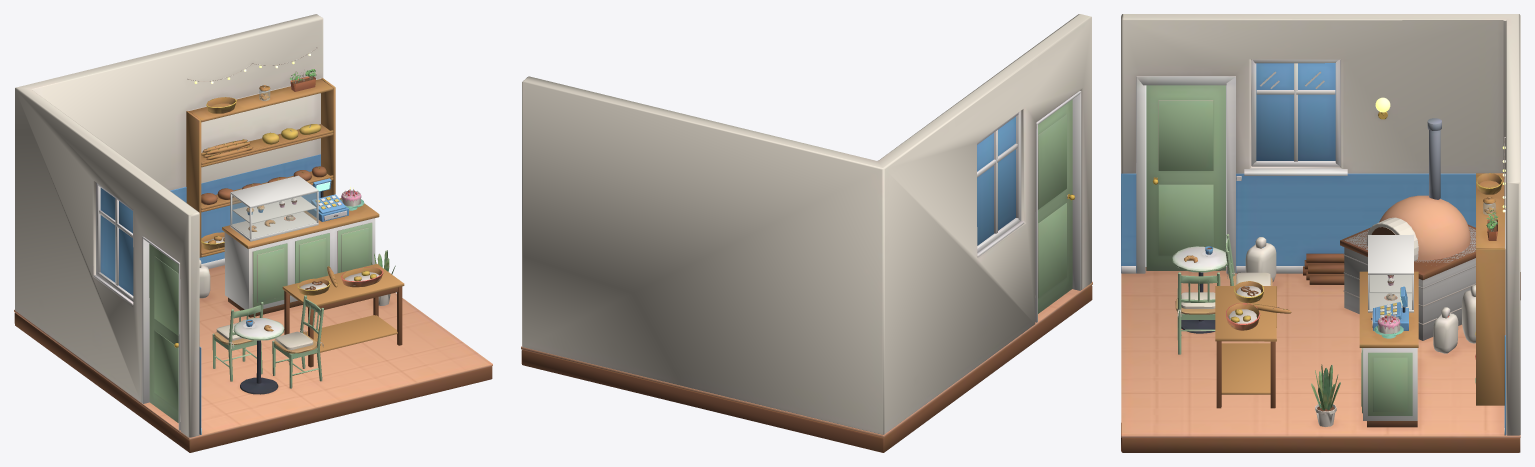
File: bakery-interior.glb
3 views of the same model, side by side, from view 1: azimuth 30°, elevation 25°; view 2: azimuth 150°, elevation 25°; view 3: azimuth 270°, elevation 25° (orthographic). The views are drawn at different scales.
Parts seen in each view (by area): view 1: bakery-interior_body, bakery-interior_display_table, bakery-interior_pastry_display, bakery-interior_pastry_display_glass; view 2: bakery-interior_body; view 3: bakery-interior_body, bakery-interior_display_table, bakery-interior_pastry_display, bakery-interior_pastry_display_glass.
Boxes of the visible parts, x1,y1,x2,y2 form: bakery-interior_body: (14, 14, 492, 452); bakery-interior_display_table: (282, 264, 404, 367); bakery-interior_pastry_display: (230, 175, 318, 241); bakery-interior_pastry_display_glass: (231, 192, 316, 238); bakery-interior_body: (521, 14, 1092, 452); bakery-interior_body: (1121, 14, 1520, 452); bakery-interior_display_table: (1215, 286, 1276, 408); bakery-interior_pastry_display: (1368, 235, 1413, 312); bakery-interior_pastry_display_glass: (1370, 275, 1411, 309).
Size of the model in its own units: 4 by 3 by 4.
Materials: 13 (1 with a texture image).
